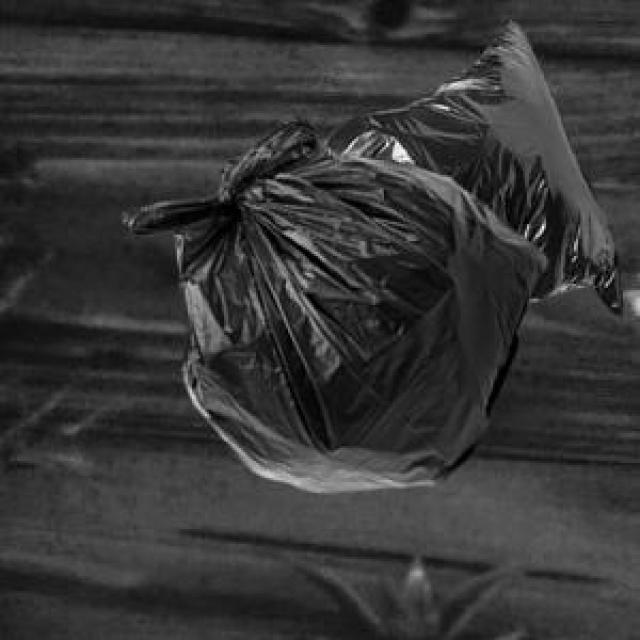miscellaneous trash: (117, 111, 544, 489), (315, 13, 618, 314)
